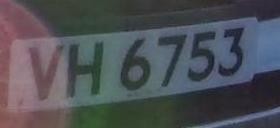3: (217, 25, 249, 82)
5: (184, 28, 219, 86)
6: (114, 32, 157, 98)
7: (154, 29, 191, 93)
H: (62, 37, 111, 104)
V: (21, 40, 67, 105)
